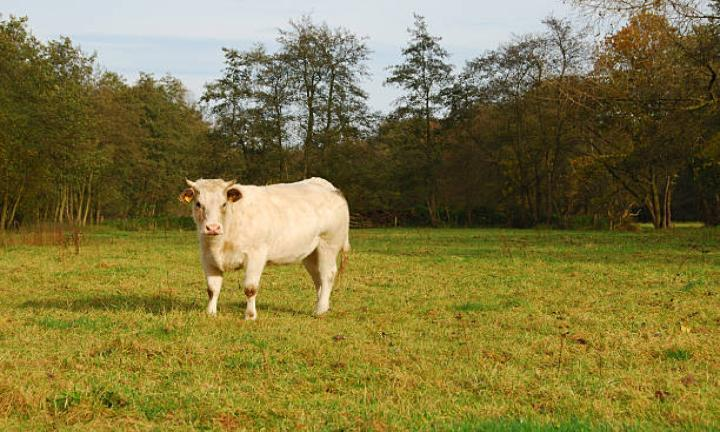Charolais: (179, 178, 348, 318)
